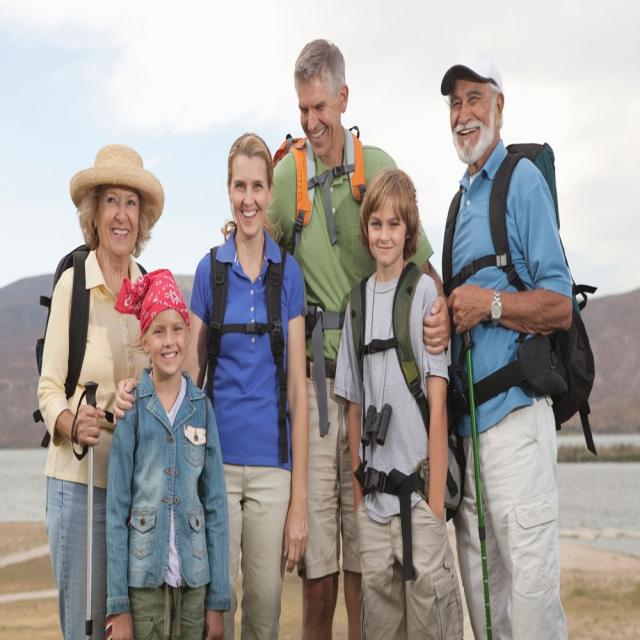body: (253, 31, 452, 639), (111, 123, 312, 639), (434, 50, 604, 639), (32, 142, 168, 637), (331, 165, 464, 640), (102, 263, 236, 639)
